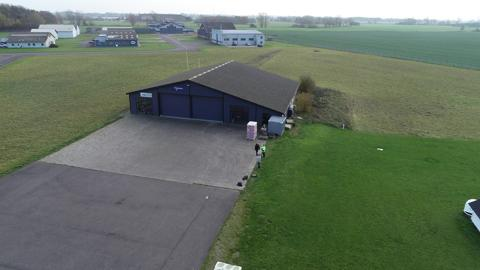RockwoolPallet: (247, 121, 257, 140)
